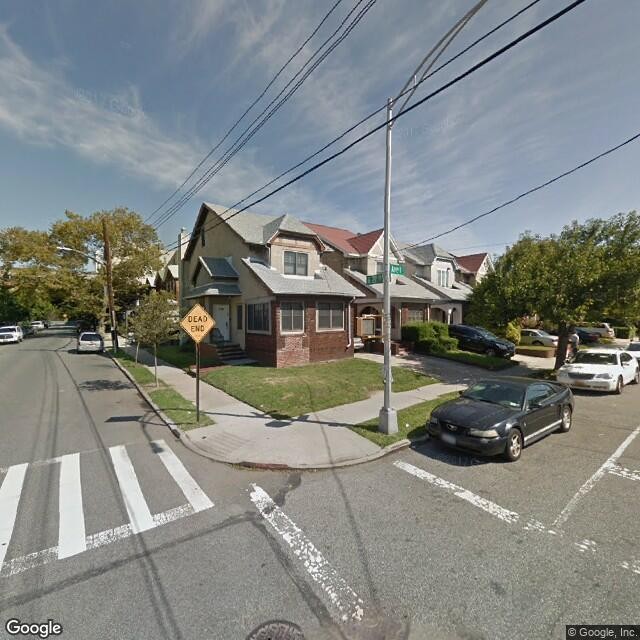litter: (401, 422, 411, 428), (186, 410, 192, 415)
